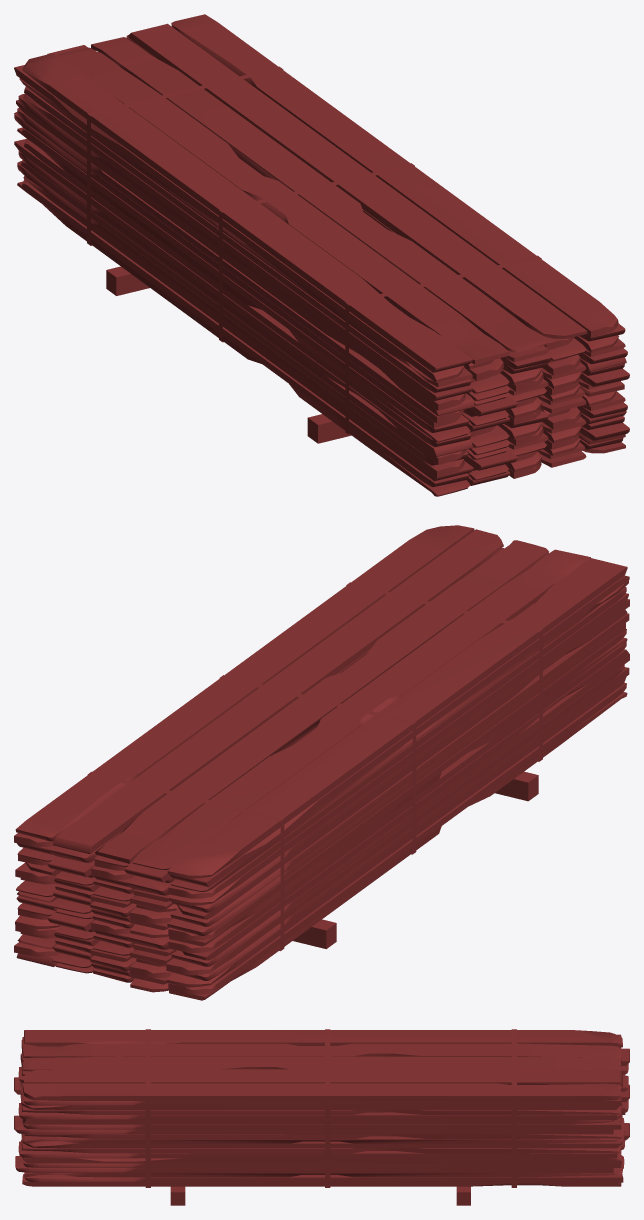
File: SM_WoodPlankPack02.fbx
3 renders of one model, top to bottom at view 1: azimuth 30°, elevation 25°; view 2: azimuth 150°, elevation 25°; view 3: azimuth 270°, elevation 25°, orthographic. The views are drawn at different scales.
Parts seen in each view (by area): view 1: WoodPlankPack02; view 2: WoodPlankPack02; view 3: WoodPlankPack02.
Part boxes in pixels (x1,y1,x2,y2): WoodPlankPack02: [14, 14, 629, 496]; WoodPlankPack02: [14, 525, 629, 1000]; WoodPlankPack02: [14, 1029, 629, 1205].
Size of the model in its own units: 89.99 by 58 by 308.
